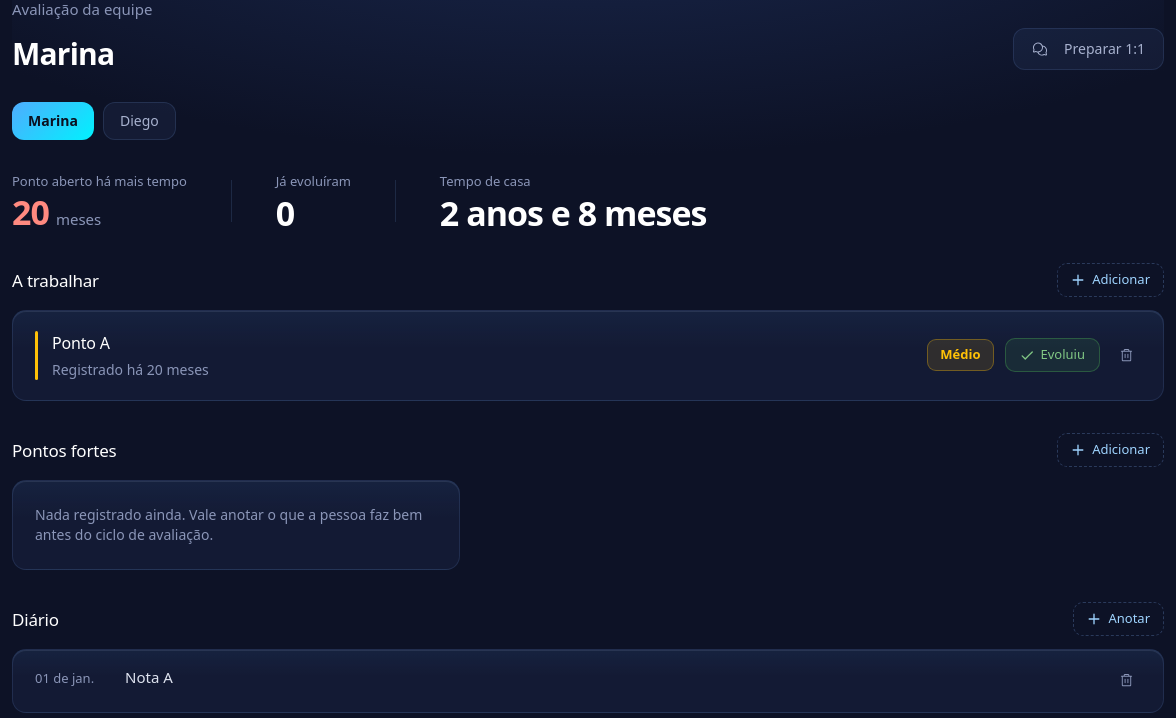
Scenario: Equipe › carrega as pessoas e, ao trocar de pessoa, recarrega pontos e anotações
Expected: the heading "Marina" is shown, [12,36,114,70]
Expected: the text "Ponto A" is shown, [52,332,110,354]
Click the button "Diego". click: point(139, 120)
box: [103,102,176,140]
(page scrolled)
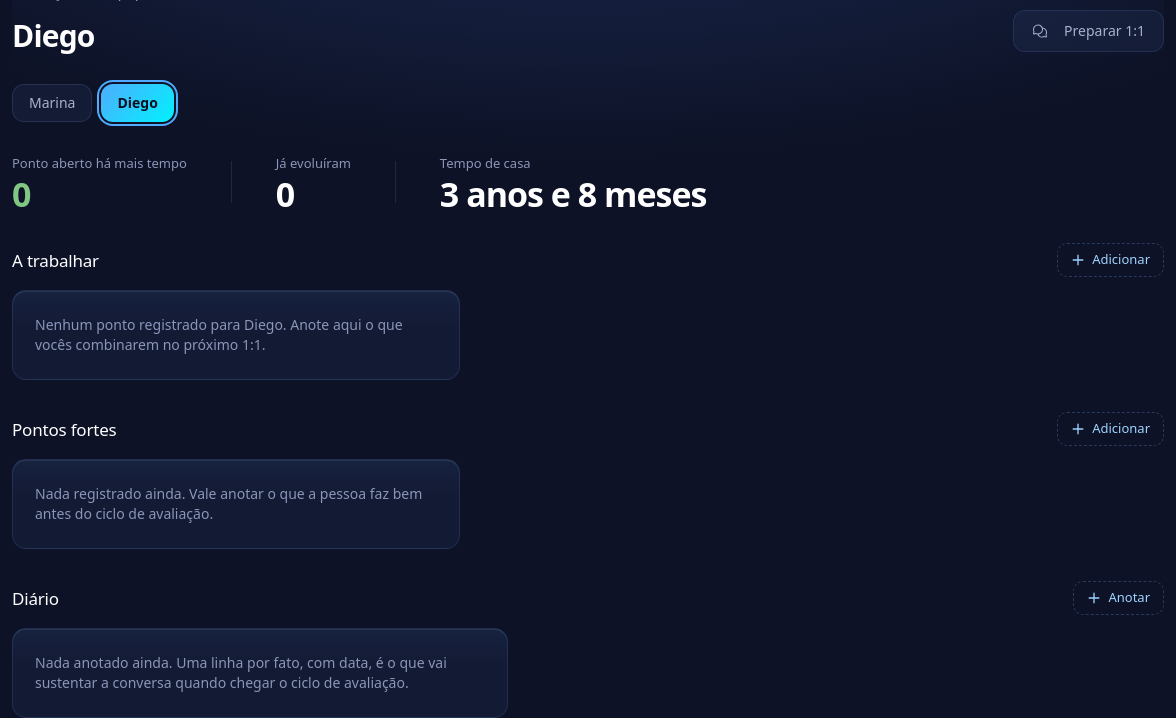
Now the heading "Diego" is shown, box [12,18,95,52]
Now the text "Nenhum ponto registrado para Diego" is shown, box [12,290,460,380]
Now the text "Nada anotado ainda" is shown, box [35,653,447,692]
